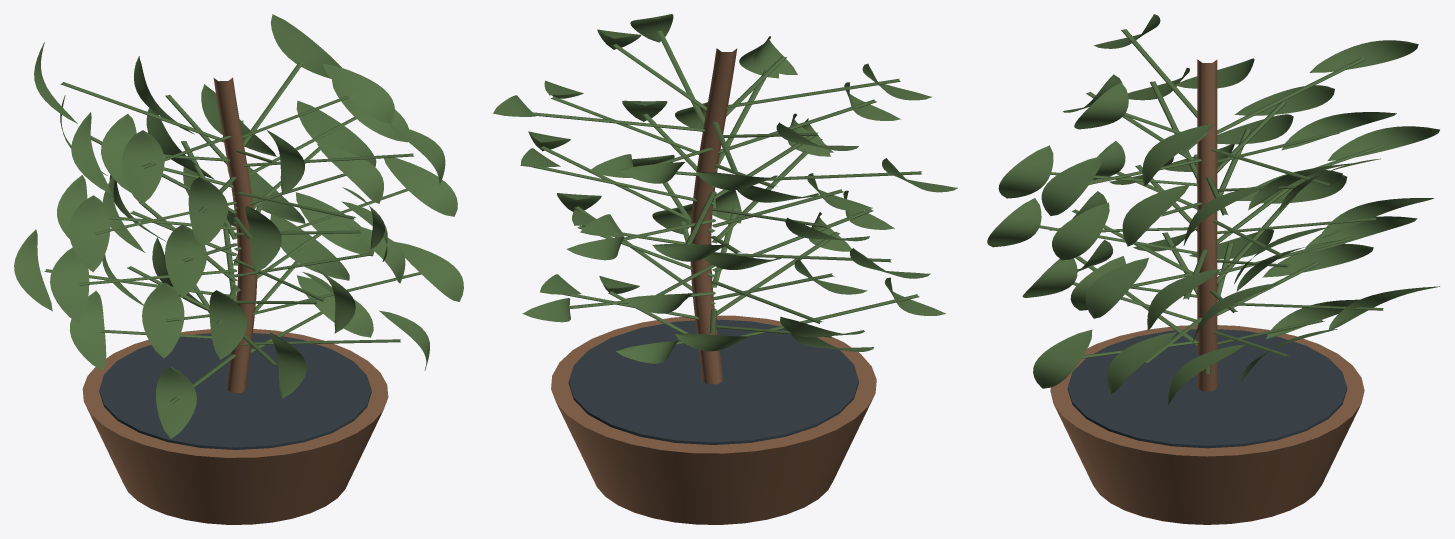
File: plant-14-2.glb
The picture shows the model from 3 angles, left to right: view 1: azimuth 30°, elevation 25°; view 2: azimuth 150°, elevation 25°; view 3: azimuth 270°, elevation 25°; orthographic projection. The views are drawn at different scales.
Parts seen in each view (by area): view 1: part (×40); view 2: part (×32); view 3: part (×36).
Part boxes in pixels (x1,y1,x2,y2): part (×40): (14, 14, 463, 524); part (×32): (493, 14, 957, 524); part (×36): (987, 29, 1439, 524).
Size of the model in its own units: 1 by 1 by 1.
